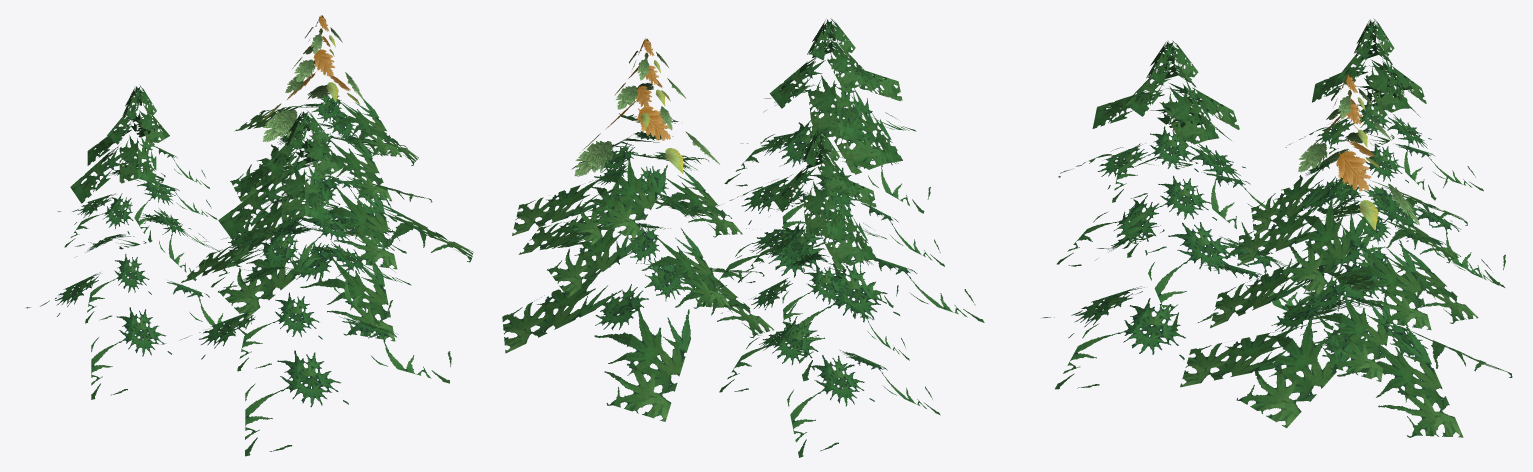
Rendered from area_07_8.FBX.
3 views of the same model, side by side, from view 1: azimuth 30°, elevation 25°; view 2: azimuth 150°, elevation 25°; view 3: azimuth 270°, elevation 25° (orthographic). The views are drawn at different scales.
Parts seen in each view (by area): view 1: area_07_8; view 2: area_07_8; view 3: area_07_8.
Boxes of the visible parts, x1,y1,x2,y2 form: area_07_8: [26, 15, 473, 456]; area_07_8: [502, 18, 984, 457]; area_07_8: [1042, 18, 1512, 437].
Bounding box in the file's own units: 8 × 6.05 × 7.87.
